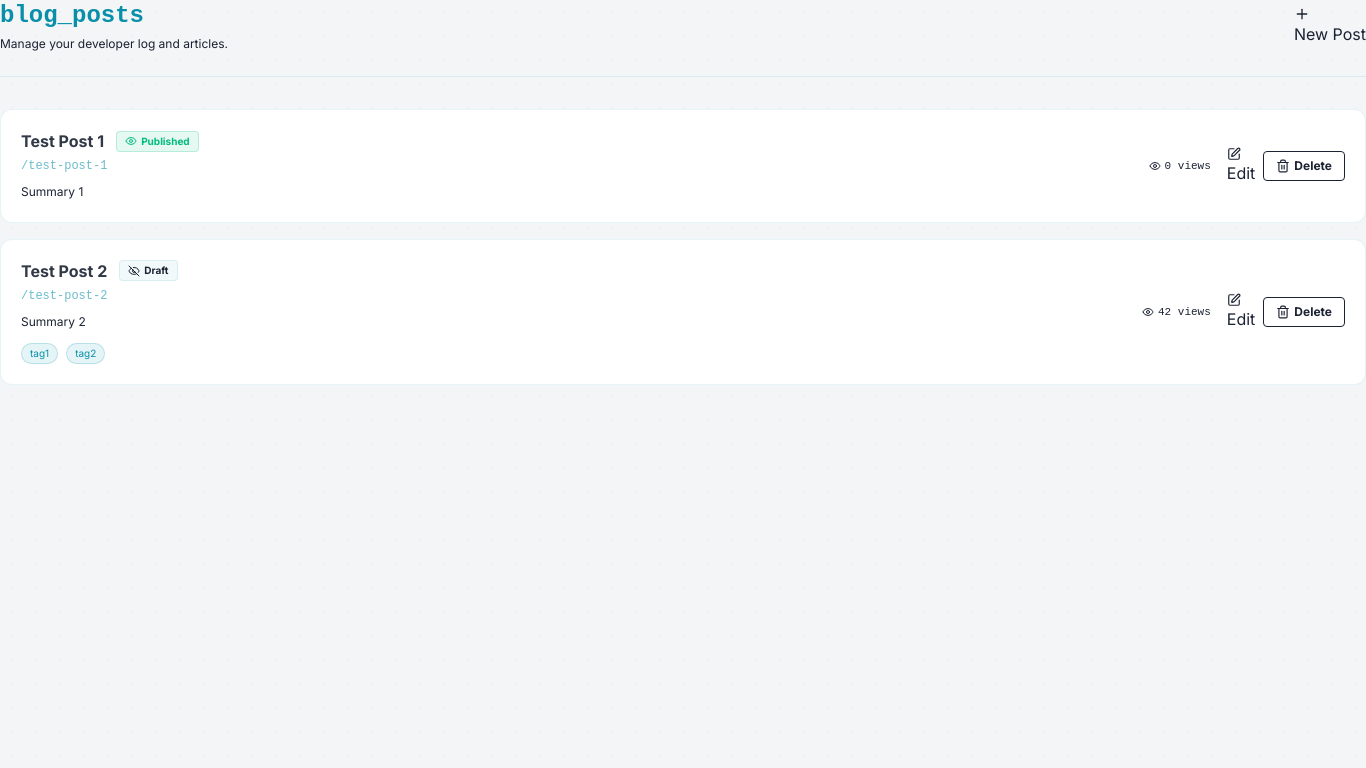
Test: BlogAdminPage › displays error message when delete fails
Expected: the heading "Test Post 1" is shown, left=21, top=130, right=104, bottom=152
Click the button "Delete" in the row of "test-post-1" at (1304, 166), box left=1263, top=151, right=1345, bottom=181
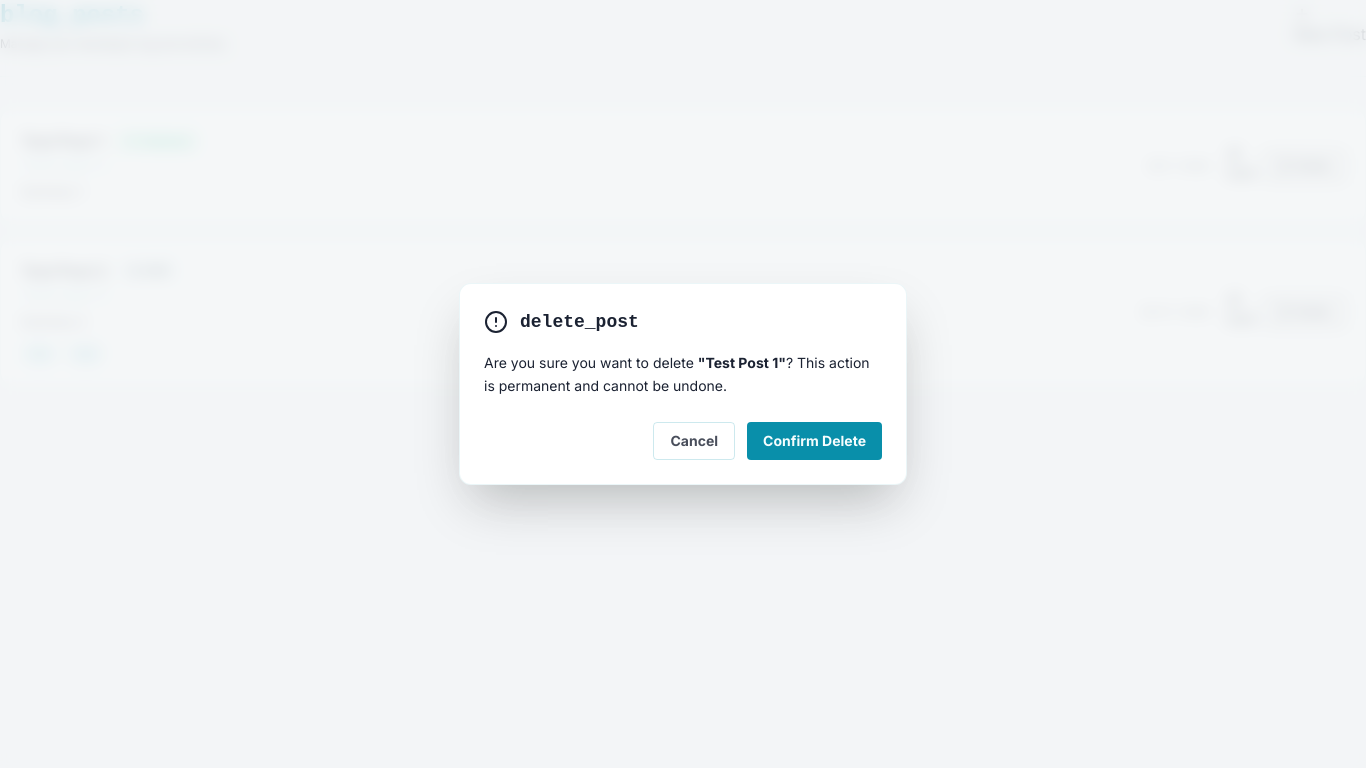
Click the button "Confirm Delete" at (814, 441), box left=747, top=422, right=882, bottom=460
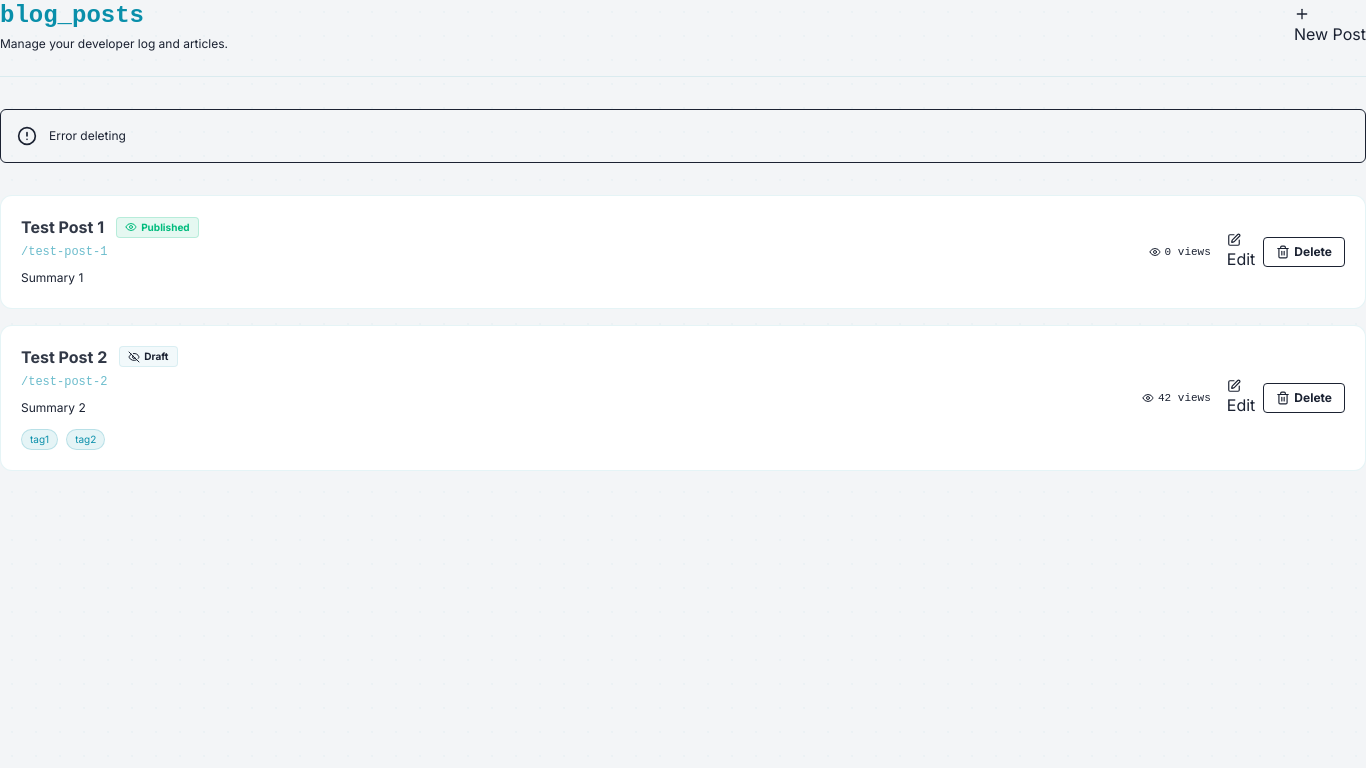
Expected: the text "Error deleting" is shown, left=49, top=128, right=126, bottom=144
